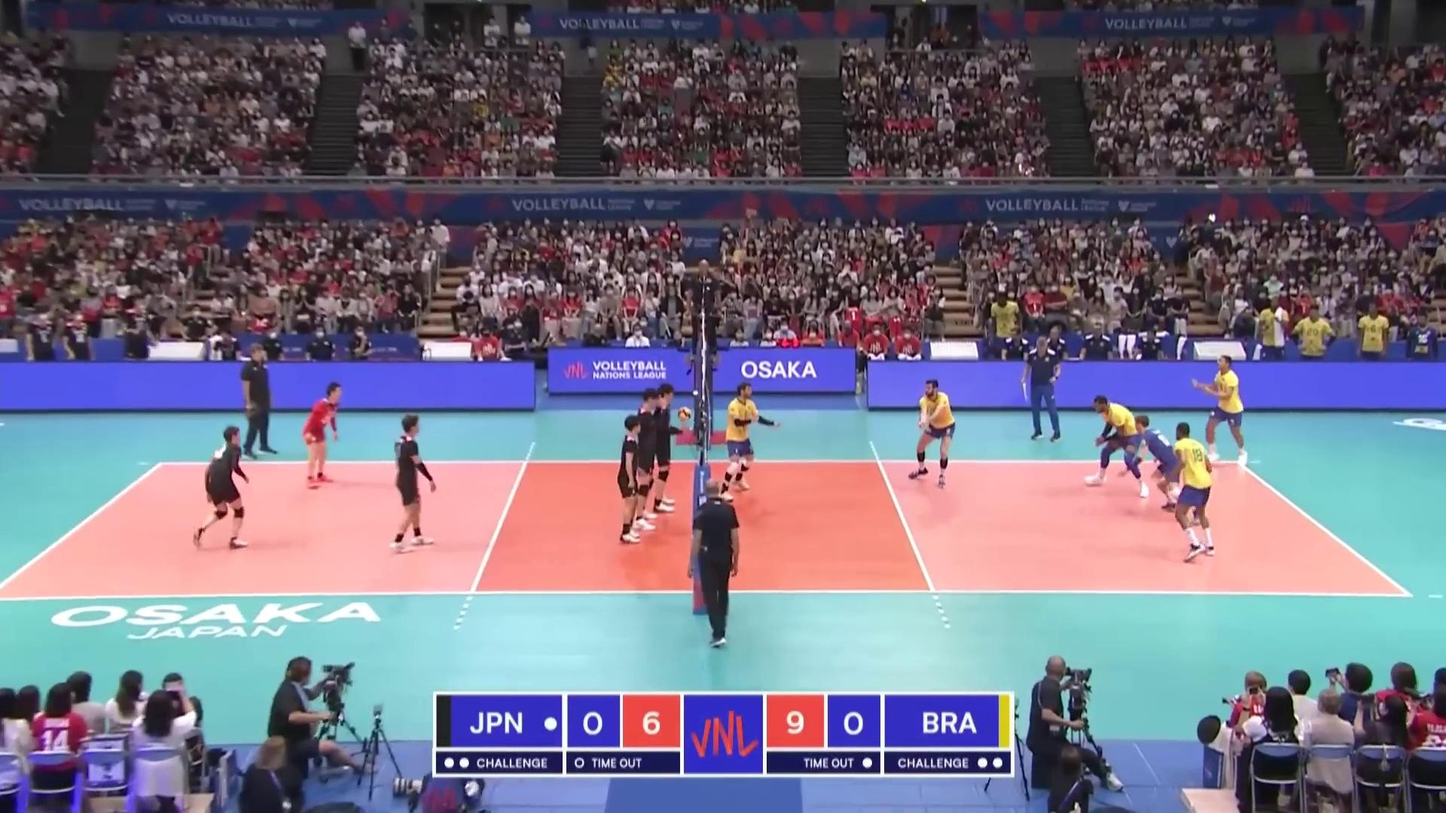player: (192, 425, 249, 548), (722, 381, 777, 502), (390, 415, 438, 553), (1173, 422, 1216, 561), (1200, 355, 1252, 466), (615, 414, 654, 547), (1088, 397, 1141, 492), (1132, 414, 1182, 514), (628, 386, 662, 530), (910, 380, 955, 487), (646, 378, 680, 510), (302, 384, 341, 488)
refree: (689, 480, 743, 648), (685, 257, 721, 374)
